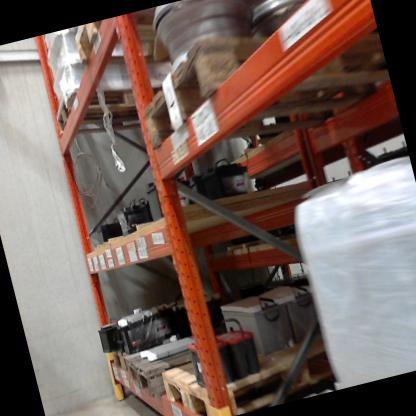pallet: (127, 0, 403, 193), (160, 324, 359, 416), (51, 70, 176, 148), (69, 2, 191, 79), (116, 332, 224, 407), (108, 343, 133, 378)
